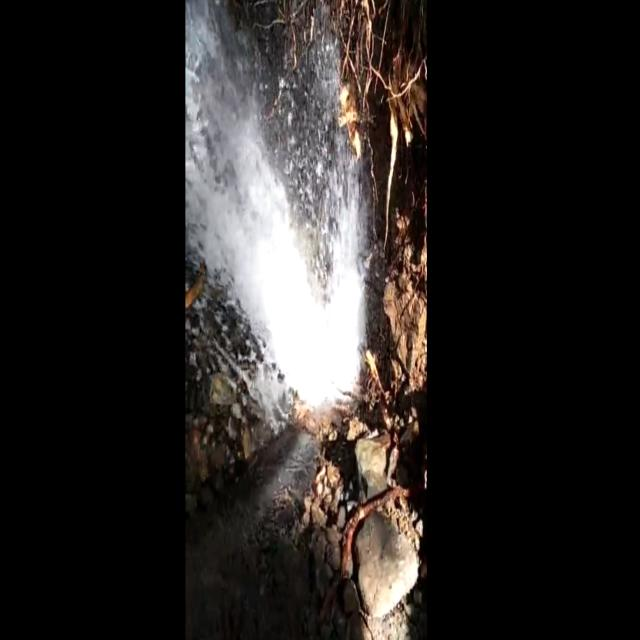leak: (186, 0, 364, 404)
